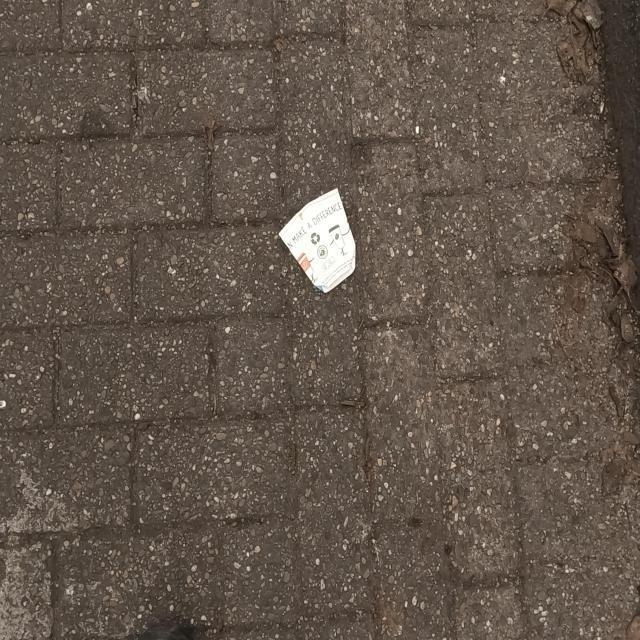Cup: (276, 185, 358, 298)
